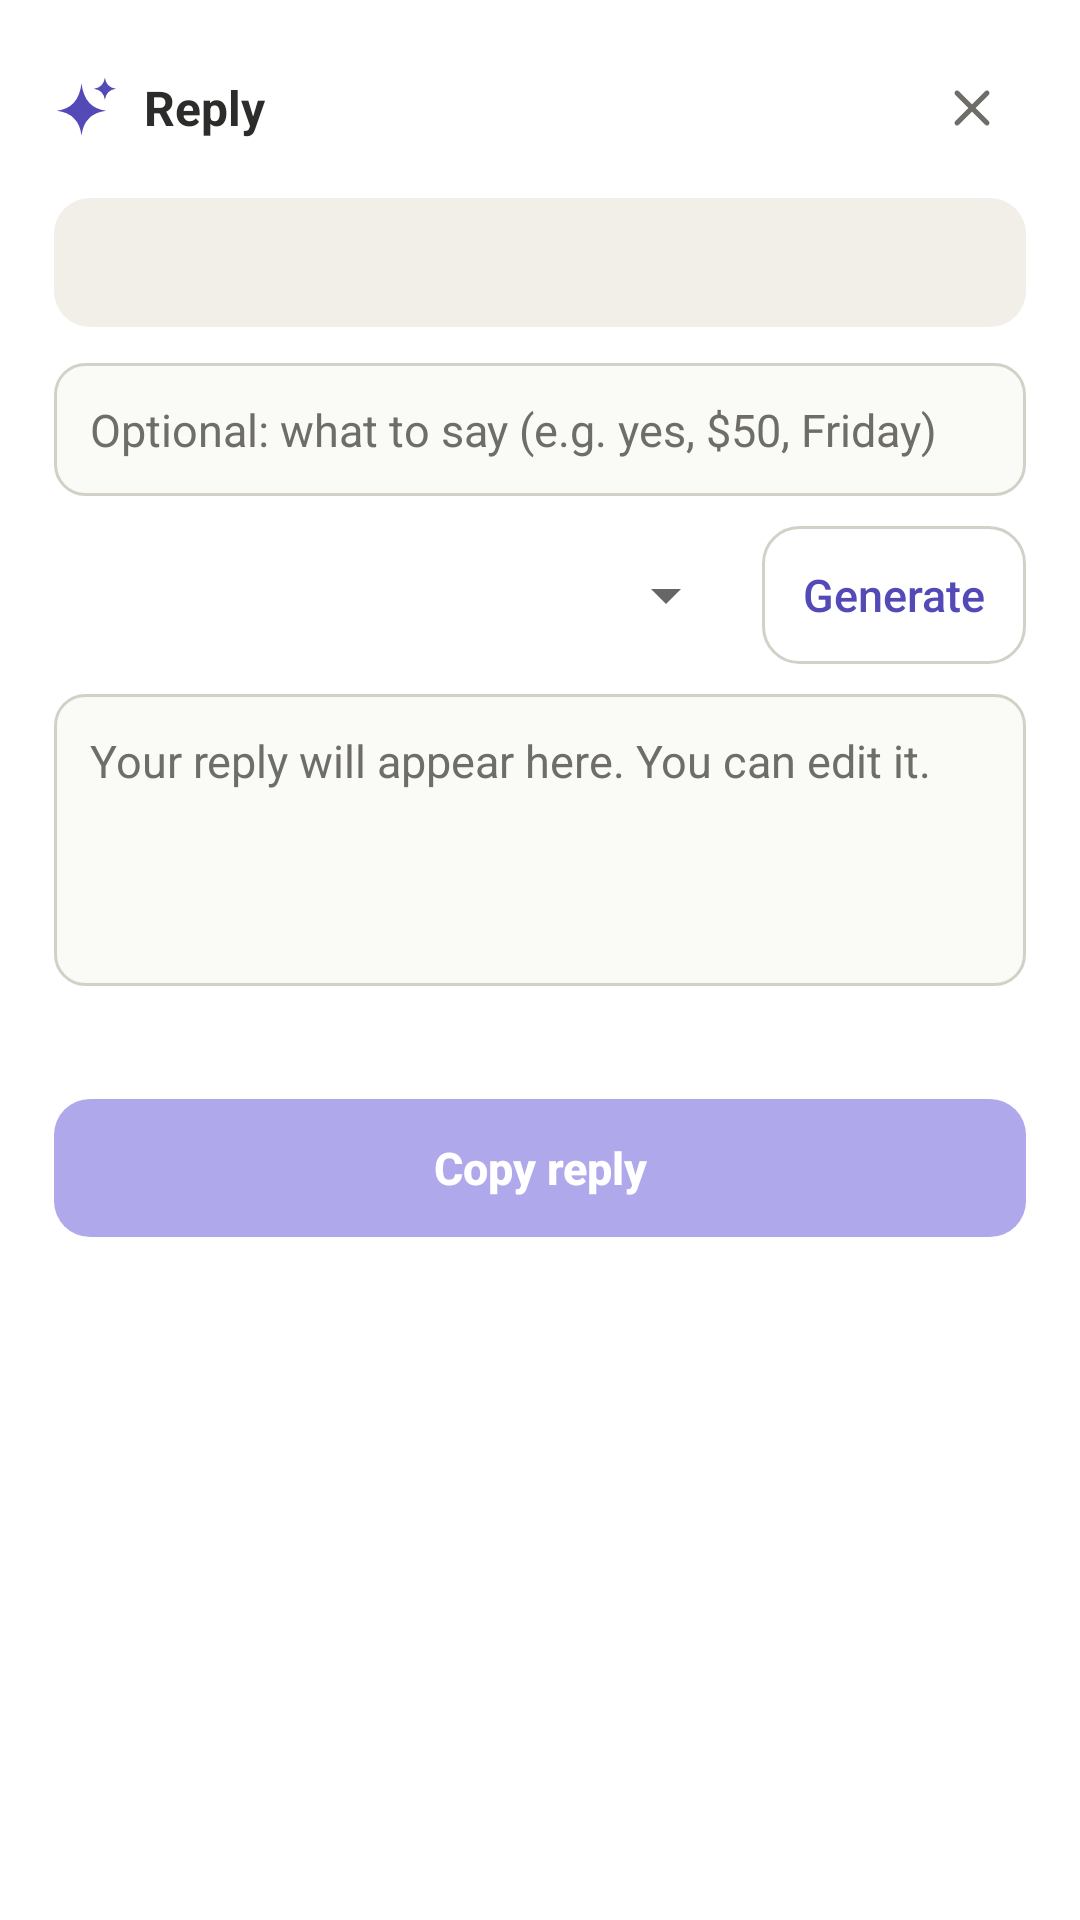

Icon click points for this 1080*1920 phone screenshot, format (x,y):
Close: (972,108)
sparkle: (86,106)
